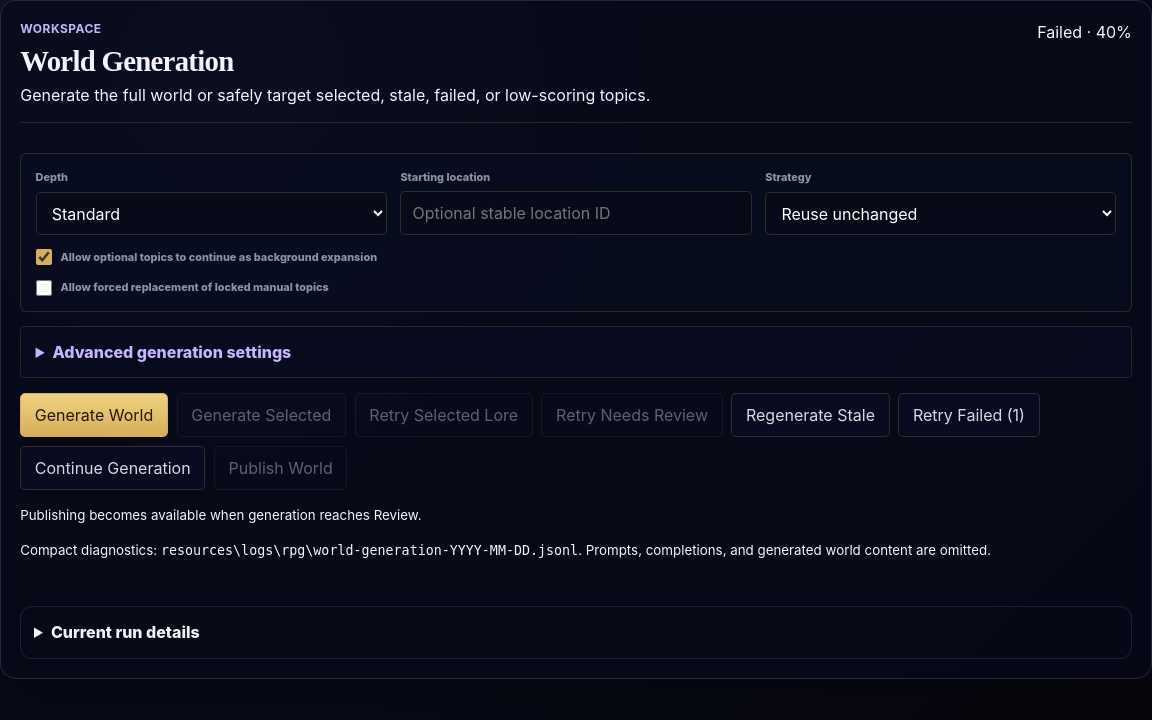
RpgWorldGenerationPanel failed-topic retry guards › explains a rejected database credential without claiming PostgreSQL is down
What coordinates should you click on to do the following:
click the button "Retry Failed (1)"
I would click on:
 (969, 415)
Its box is [898,393,1040,437].
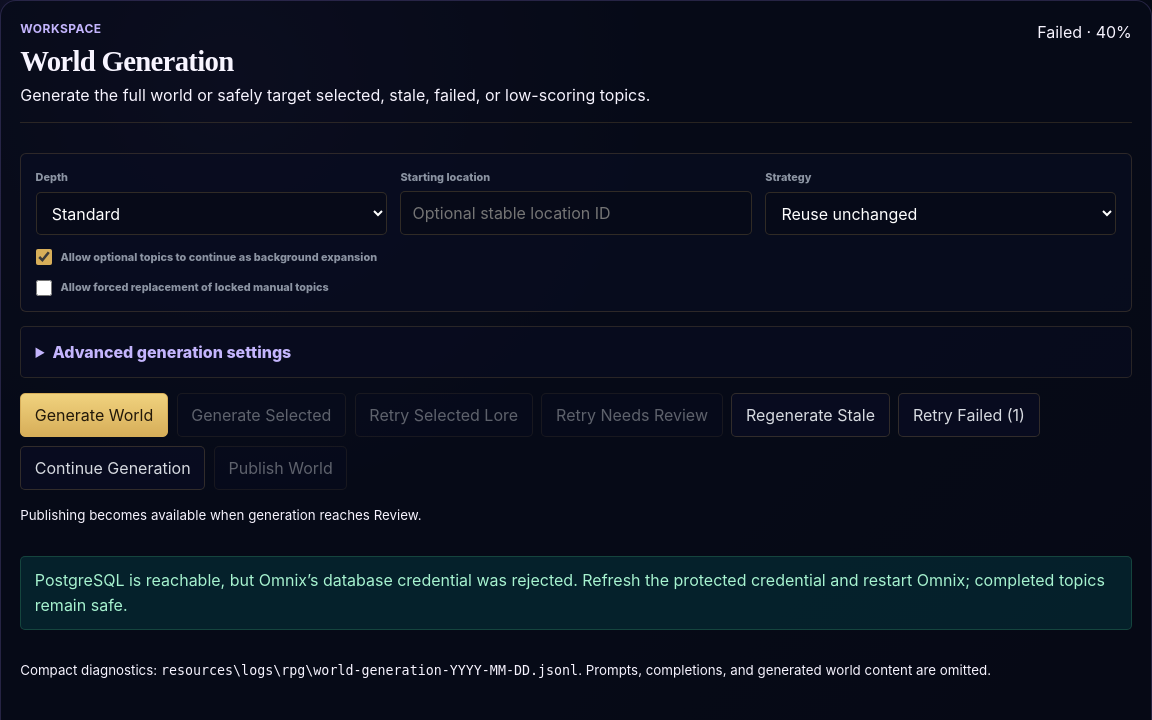
Now the text "database credential was rejected" is shown, box [35,570,1105,615]
